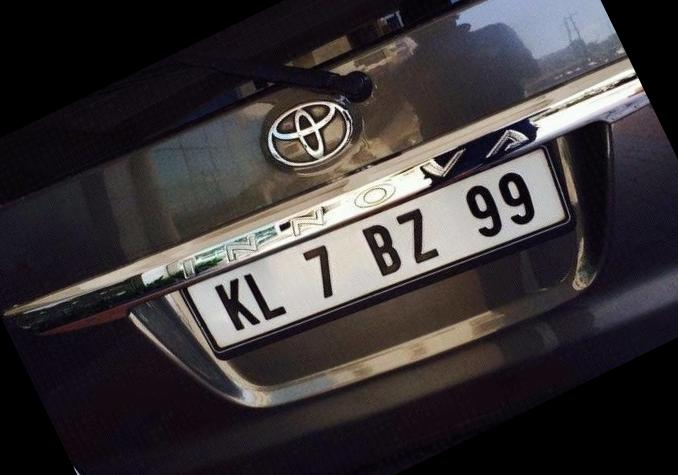plate: (167, 101, 599, 417)
